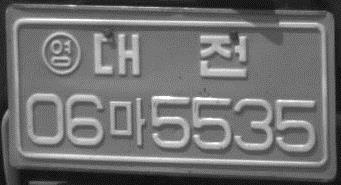0: (25, 91, 63, 146)
3: (234, 96, 273, 152)
5: (273, 97, 318, 154), (190, 95, 233, 151), (149, 93, 190, 150)
6: (65, 91, 103, 148)
대전_D: (91, 29, 249, 80)
마: (106, 94, 147, 148)
영: (40, 30, 81, 76)
